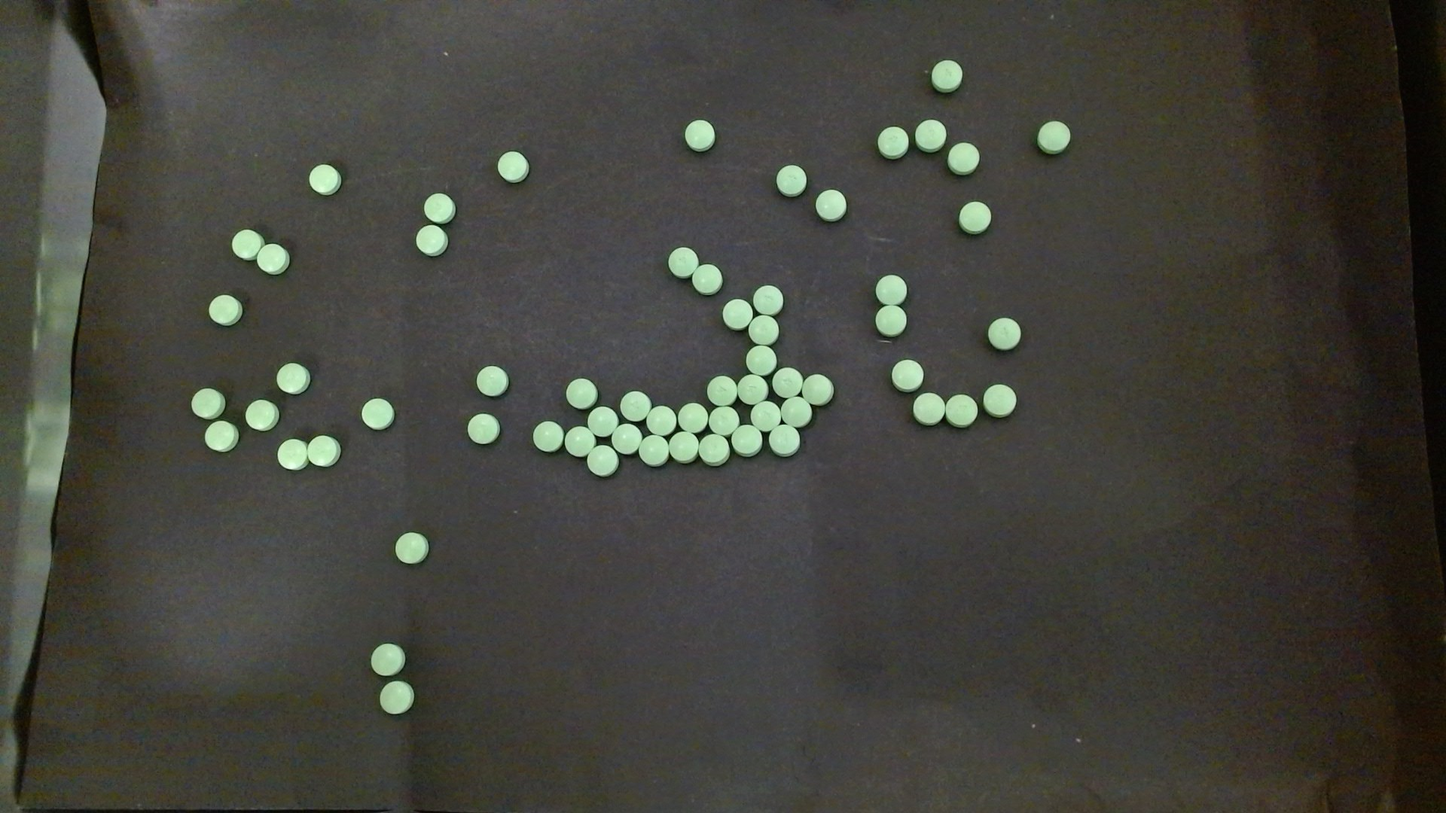Circle: (957, 200, 992, 236), (394, 531, 429, 565), (1036, 120, 1071, 154), (379, 680, 413, 714), (371, 642, 404, 676), (983, 383, 1016, 417), (307, 434, 340, 467), (987, 317, 1020, 350), (913, 392, 945, 426), (204, 420, 238, 452), (276, 362, 310, 394), (944, 394, 976, 427), (874, 274, 907, 306), (256, 242, 289, 274), (875, 304, 908, 336), (361, 398, 394, 430), (891, 359, 923, 392), (245, 399, 277, 431), (231, 228, 263, 260), (467, 413, 499, 445), (768, 425, 800, 457), (565, 378, 597, 410), (698, 434, 730, 466), (801, 374, 833, 406), (947, 142, 978, 175), (915, 118, 946, 151), (638, 434, 669, 467), (532, 419, 563, 452), (208, 294, 241, 325), (191, 388, 224, 419), (931, 59, 962, 92), (587, 445, 618, 477), (276, 438, 307, 470), (415, 224, 447, 255), (721, 298, 752, 330), (776, 164, 807, 196), (476, 365, 508, 396), (684, 119, 715, 151), (877, 126, 908, 158), (308, 163, 340, 194), (731, 424, 762, 456), (619, 390, 651, 421), (611, 423, 642, 455), (736, 373, 767, 405), (496, 151, 529, 181), (752, 284, 783, 315), (423, 193, 455, 223), (667, 246, 697, 278), (816, 189, 846, 221), (669, 431, 699, 463), (564, 426, 594, 457), (587, 406, 617, 437), (746, 345, 776, 376), (706, 376, 737, 406), (781, 397, 811, 428), (748, 315, 778, 345), (645, 406, 675, 436), (772, 367, 802, 397), (692, 263, 721, 294), (678, 402, 707, 433), (751, 400, 780, 430), (709, 406, 738, 435)
